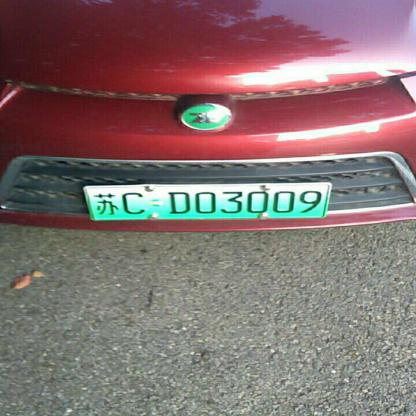lp: (81, 182, 331, 222)
